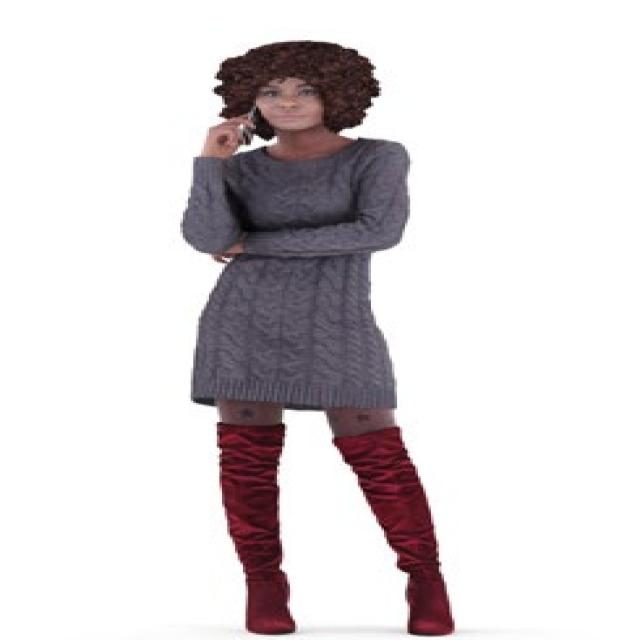standing: (174, 37, 463, 640)
